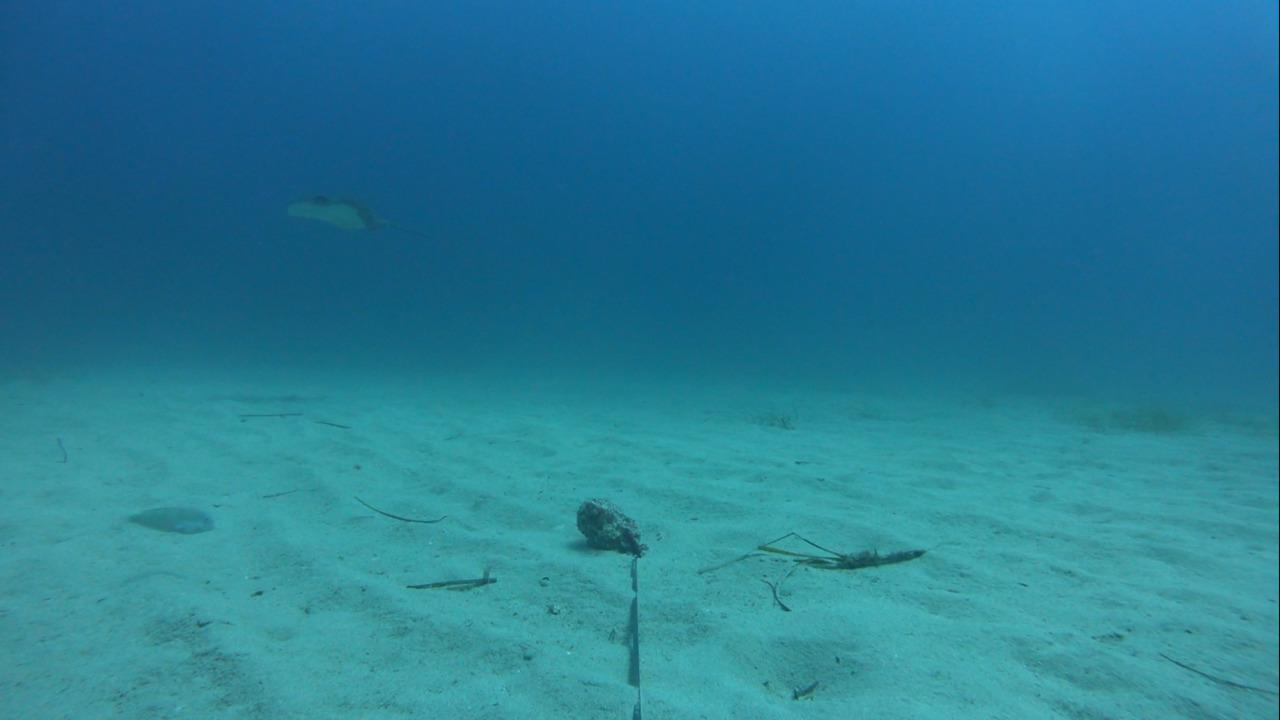myliobatis: (270, 184, 399, 248)
raor: (106, 500, 221, 539)
